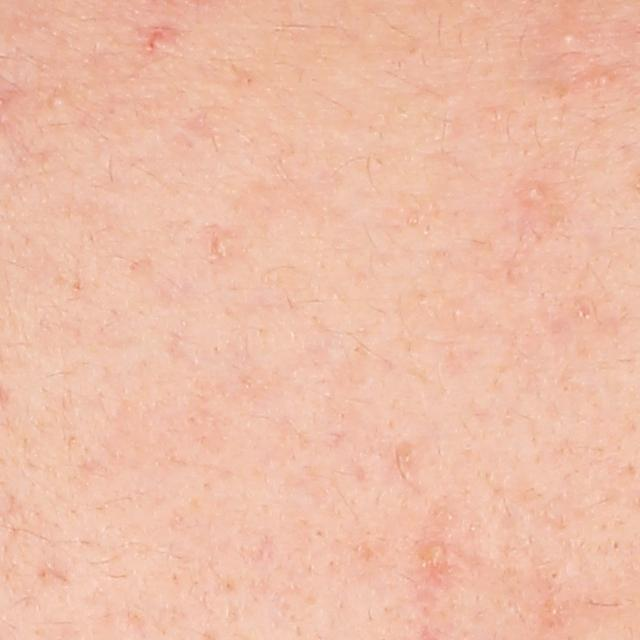comedo: (562, 32, 580, 46), (550, 569, 560, 580)
pustule: (421, 538, 448, 564)
